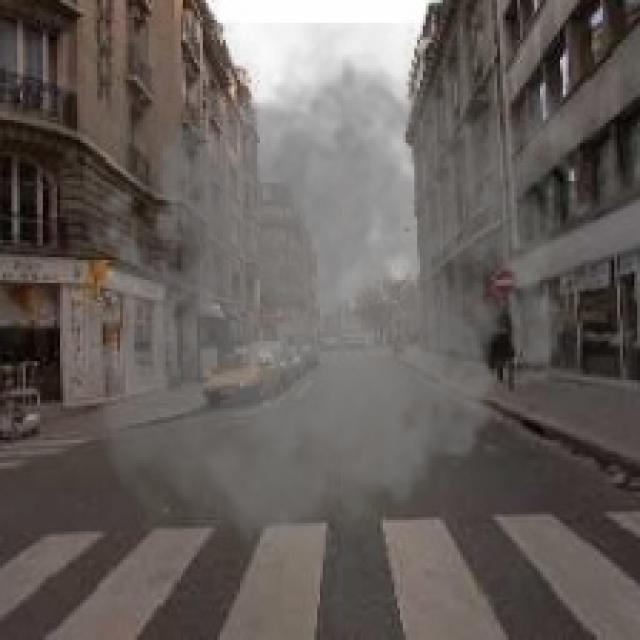smoke: (75, 23, 594, 583)
